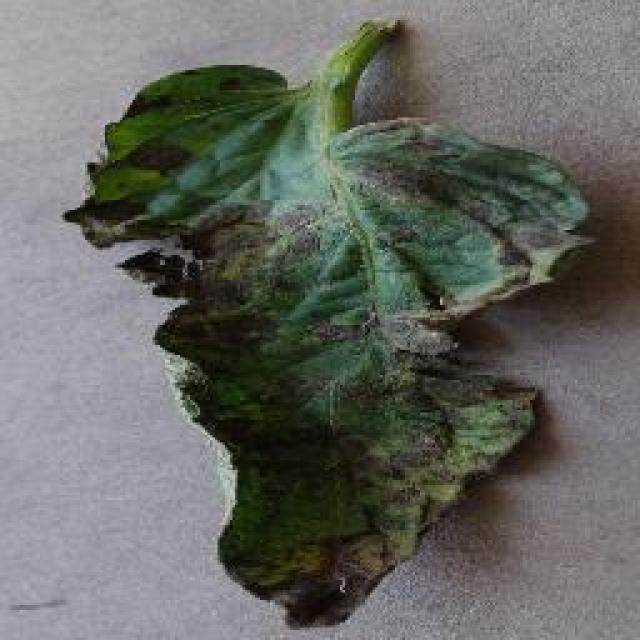leaf blight: (60, 12, 599, 624)
